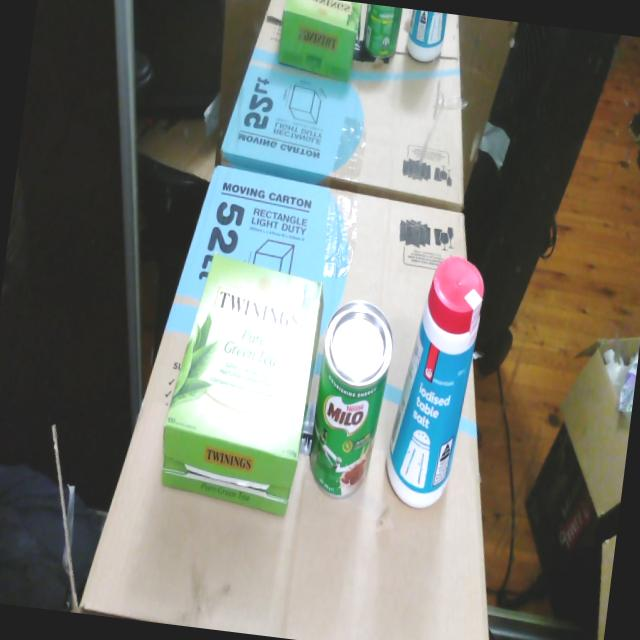nestle_milo_tin: (309, 300, 393, 498)
twinings_greentea_box: (162, 254, 323, 515)
woolworths_salt_bottle: (386, 256, 483, 507)
